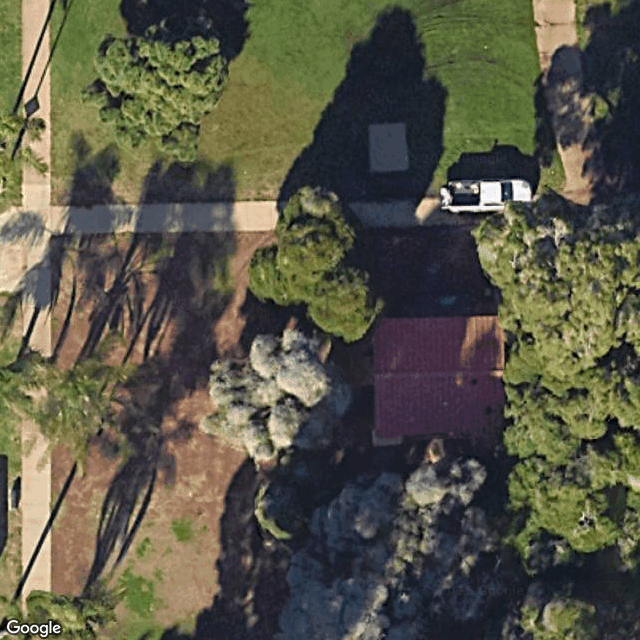palm: (42, 348, 155, 466)
